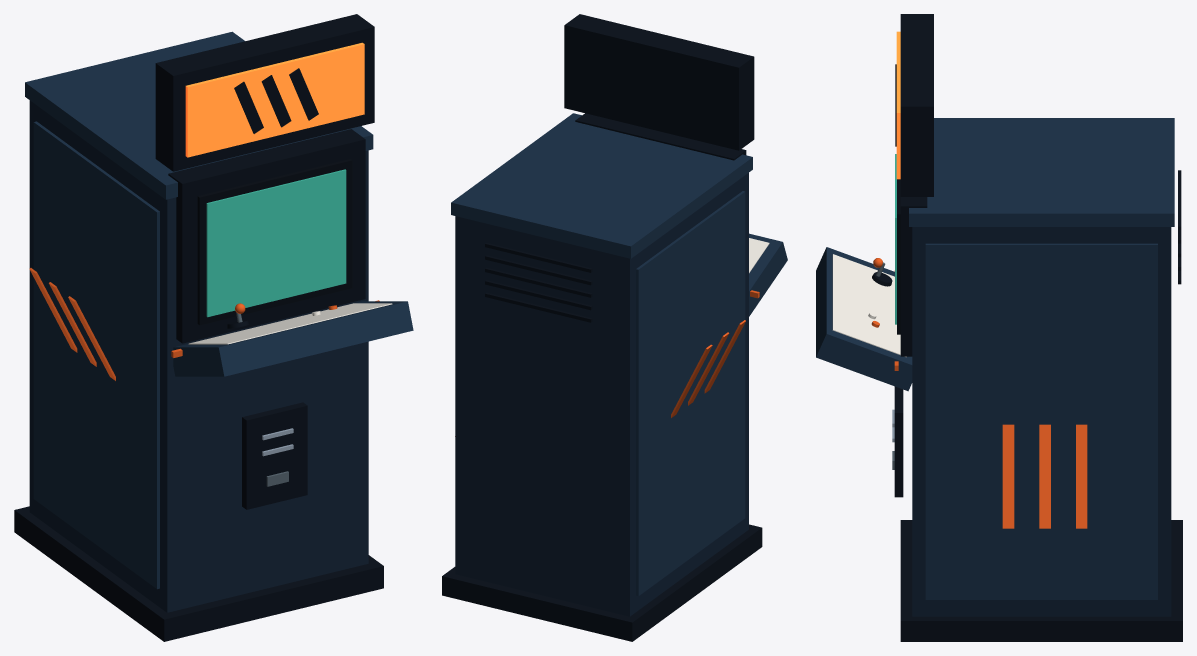
Rendered from model-cabinet-01.glb.
3 renders of one model, left to right at view 1: azimuth 30°, elevation 25°; view 2: azimuth 150°, elevation 25°; view 3: azimuth 270°, elevation 25°, orthographic. The views are drawn at different scales.
Visible parts, largest first — view 1: 机身主体, 侧板左, 屏幕辉光, 屏幕边框, 顶部压条, 灯箱外壳, 灯箱灯面, 底座底墩, 操作台, 投币门, 屏幕玻璃, 操作台面板 (+3 smaller); view 2: 机身主体, 侧板左, 顶部压条, 灯箱外壳, 底座底墩, 屏幕边框, 操作台, 散热百叶2, 散热百叶5, 散热百叶4, 散热百叶1, 散热百叶3; view 3: 侧板右, 顶部压条, 机身主体, 底座底墩, 灯箱外壳, 操作台, 操作台面板, 屏幕边框, 侧板斜纹右-3, 侧板斜纹右-2, 侧板斜纹右-1, 投币门 (+2 smaller).
Part boxes in pixels (x1,y1,x2,y2): 机身主体: [29, 100, 368, 612]; 侧板左: [33, 121, 159, 589]; 屏幕辉光: [206, 169, 346, 317]; 屏幕边框: [168, 129, 365, 343]; 顶部压条: [25, 31, 373, 199]; 灯箱外壳: [155, 14, 374, 171]; 灯箱灯面: [185, 42, 364, 157]; 底座底墩: [14, 506, 383, 641]; 操作台: [173, 301, 413, 376]; 投币门: [242, 402, 307, 509]; 屏幕玻璃: [197, 159, 352, 325]; 操作台面板: [188, 303, 392, 344]; 机身主体: [455, 173, 748, 616]; 侧板左: [636, 191, 745, 596]; 顶部压条: [451, 113, 752, 258]; 灯箱外壳: [564, 14, 754, 150]; 底座底墩: [442, 524, 762, 641]; 屏幕边框: [575, 113, 746, 160]; 操作台: [749, 233, 787, 316]; 散热百叶2: [485, 255, 592, 285]; 散热百叶5: [485, 292, 592, 322]; 散热百叶4: [485, 280, 592, 310]; 散热百叶1: [485, 243, 592, 272]; 散热百叶3: [485, 267, 592, 297]; 侧板右: [925, 243, 1157, 599]; 顶部压条: [909, 118, 1174, 226]; 机身主体: [912, 227, 1171, 616]; 底座底墩: [900, 520, 1182, 641]; 灯箱外壳: [900, 14, 933, 196]; 操作台: [816, 247, 912, 391]; 操作台面板: [832, 254, 906, 357]; 屏幕边框: [900, 197, 927, 356]; 侧板斜纹右-3: [1002, 424, 1014, 528]; 侧板斜纹右-2: [1039, 424, 1050, 528]; 侧板斜纹右-1: [1076, 424, 1087, 528]; 投币门: [894, 386, 903, 497].
Size of the model in its own units: 0.9544 by 1.76 by 1.1.
